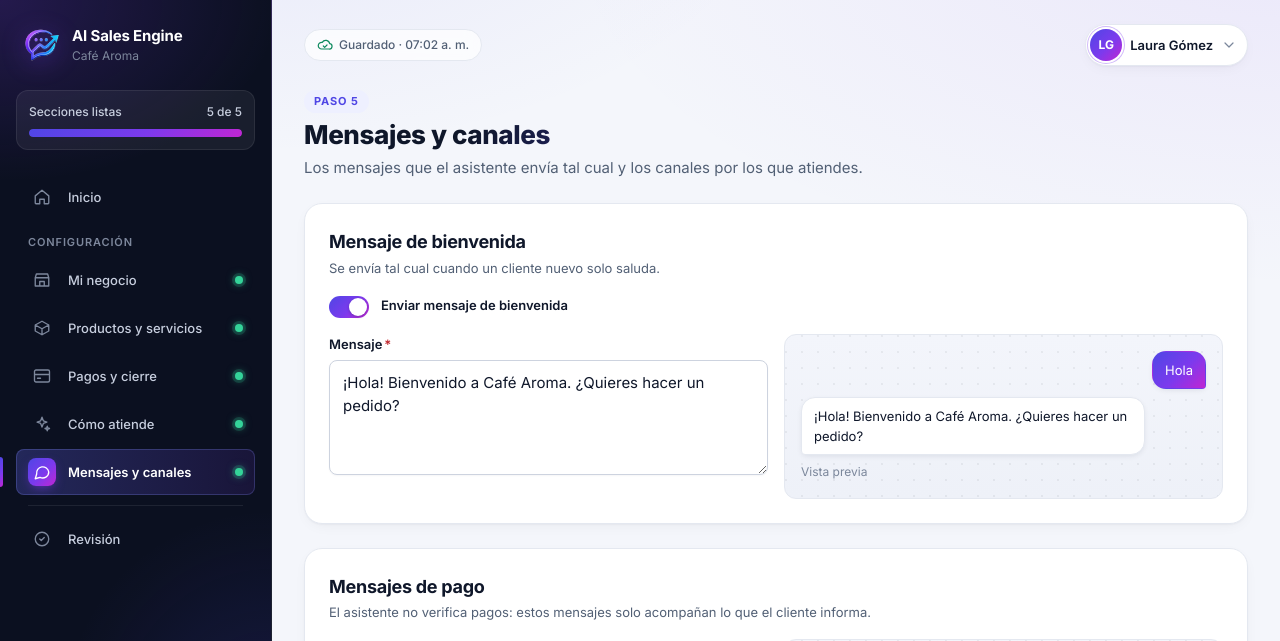
Panel de configuración › muestra la vista previa del mensaje de bienvenida
Expected: the heading "Mensajes y canales" is shown, [304, 119, 863, 150]
Replace the text in the text box labelled "Mensaje*" with "Hola, soy tu asistente" at (548, 417), box [329, 360, 768, 475]
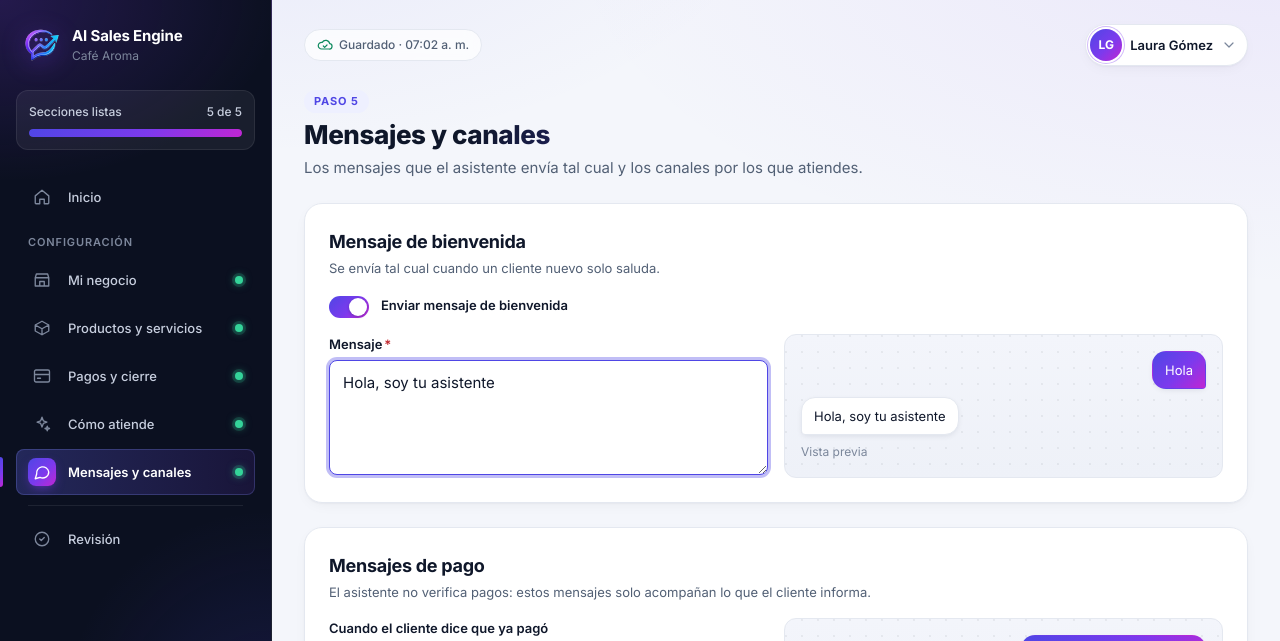
Expected: the text "Hola, soy tu asistente" is shown, [801, 397, 958, 435]
